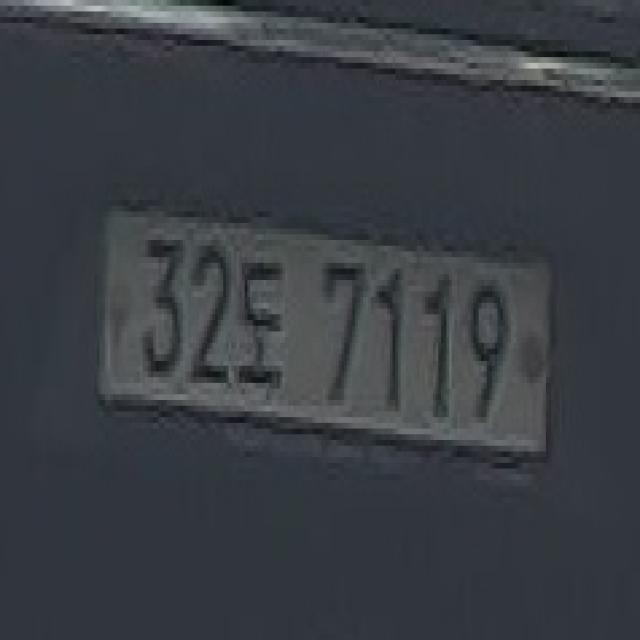plat: (94, 195, 556, 465)
